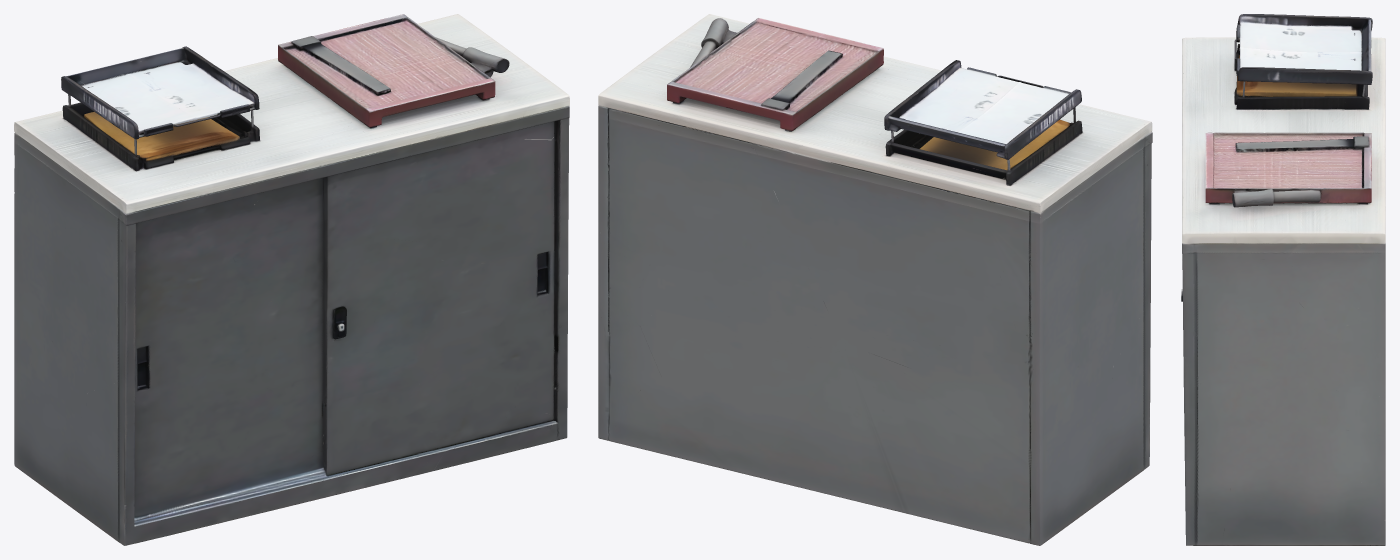
Rendered from gray_cabinet.glb.
3 views of the same model, side by side, from view 1: azimuth 30°, elevation 25°; view 2: azimuth 150°, elevation 25°; view 3: azimuth 270°, elevation 25° (orthographic). The views are drawn at different scales.
Visible parts, largest first — view 1: model; view 2: model; view 3: model.
Boxes of the visible parts, x1=… form: model: x1=14, y1=14, x2=569, y2=545; model: x1=598, y1=14, x2=1152, y2=545; model: x1=1181, y1=14, x2=1385, y2=545.
Size of the model in its own units: 1.25 by 1.05 by 0.55.
Materials: 1 (1 with a texture image).
